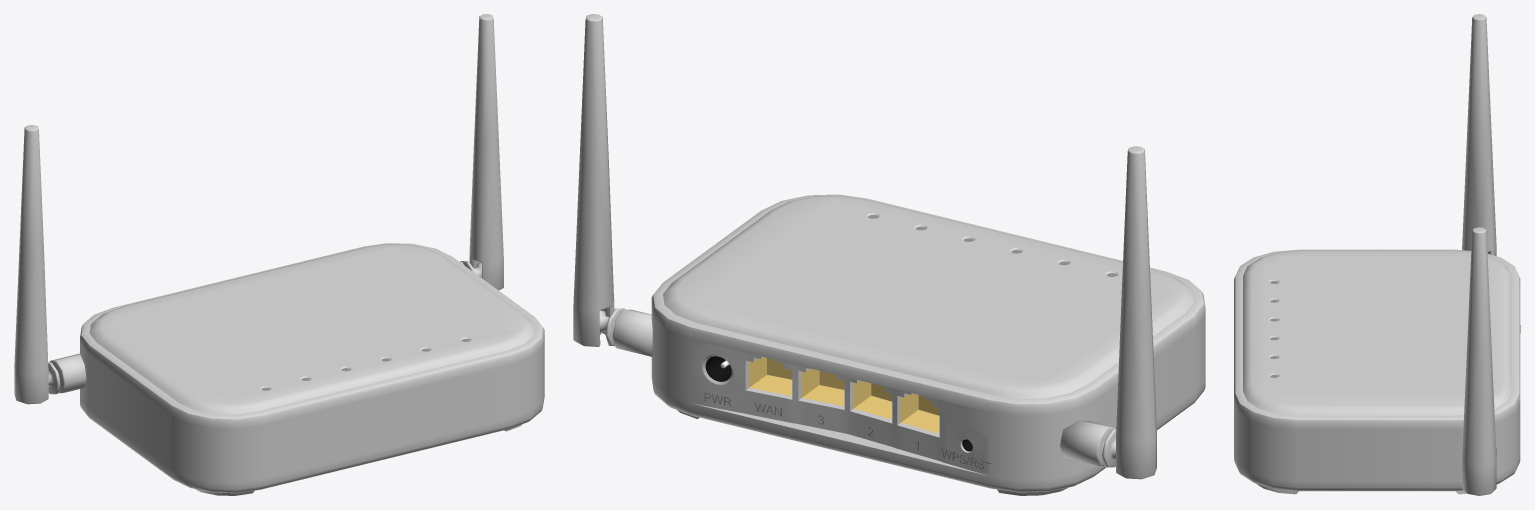
File: AccessPoint.fbx
The picture shows the model from 3 angles, left to right: view 1: azimuth 30°, elevation 25°; view 2: azimuth 150°, elevation 25°; view 3: azimuth 270°, elevation 25°; orthographic projection. The views are drawn at different scales.
Parts seen in each view (by area): view 1: body, antena; view 2: body, antena; view 3: body, antena.
Boxes of the visible parts, x1,y1,x2,y2 form: body: (80, 243, 544, 495); antena: (14, 14, 503, 404); body: (651, 194, 1205, 495); antena: (573, 14, 1156, 479); body: (1234, 249, 1520, 494); antena: (1462, 14, 1496, 495).
Size of the model in its own units: 26.56 by 15.87 by 14.12.
